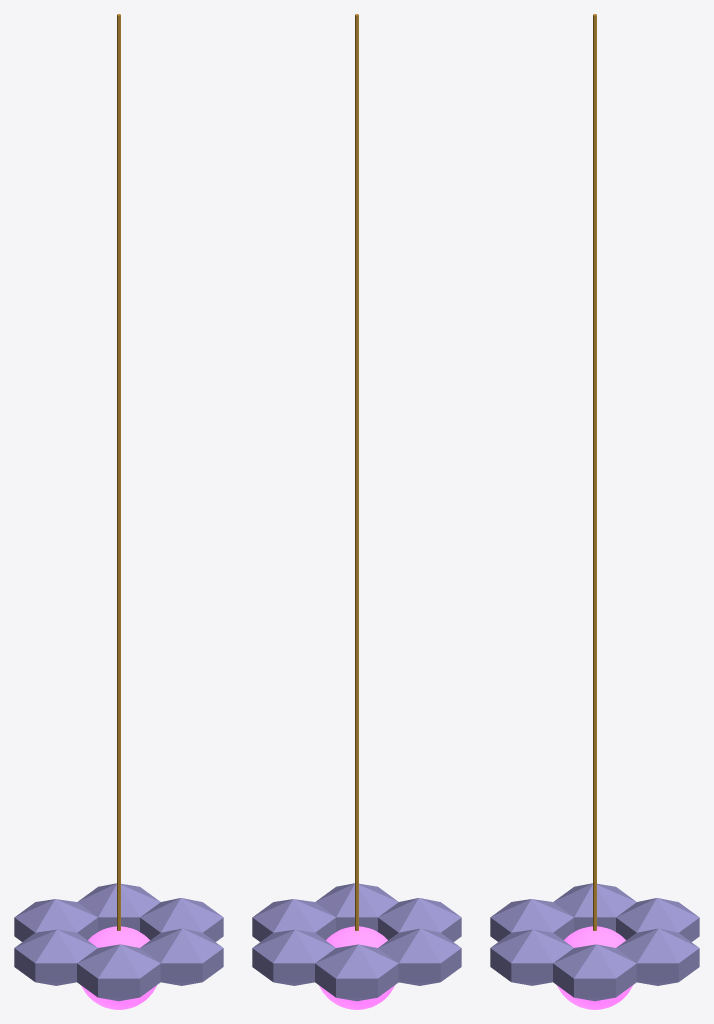
The model's file is Minitor chandelier.fbx.
The picture shows the model from 3 angles, left to right: view 1: azimuth 30°, elevation 25°; view 2: azimuth 150°, elevation 25°; view 3: azimuth 270°, elevation 25°; orthographic projection.
Visible parts, largest first — view 1: Minitor Chandelier; view 2: Minitor Chandelier; view 3: Minitor Chandelier.
Boxes of the visible parts, x1,y1,x2,y2 form: Minitor Chandelier: (14, 14, 223, 1009); Minitor Chandelier: (252, 14, 461, 1009); Minitor Chandelier: (490, 14, 699, 1009).
Bounding box in the file's own units: 104 × 524 × 100.
